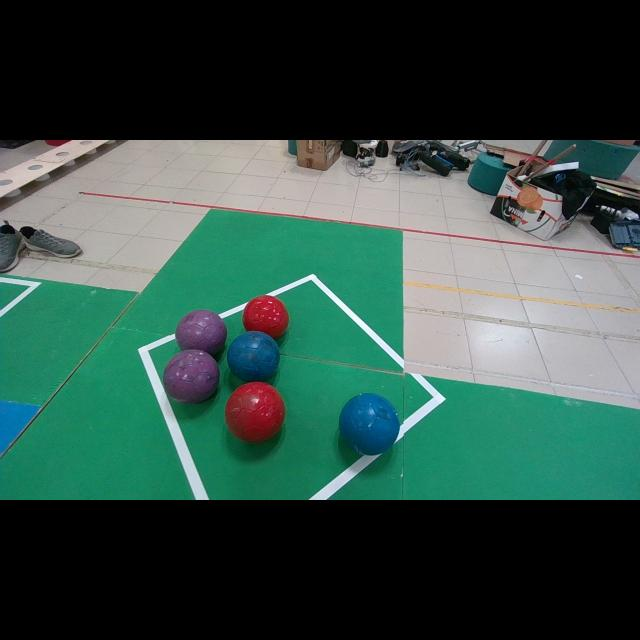B: (339, 394, 400, 454), (228, 331, 280, 382)
P: (164, 350, 220, 404), (175, 310, 226, 355)
R: (225, 381, 285, 442), (242, 295, 289, 339)
